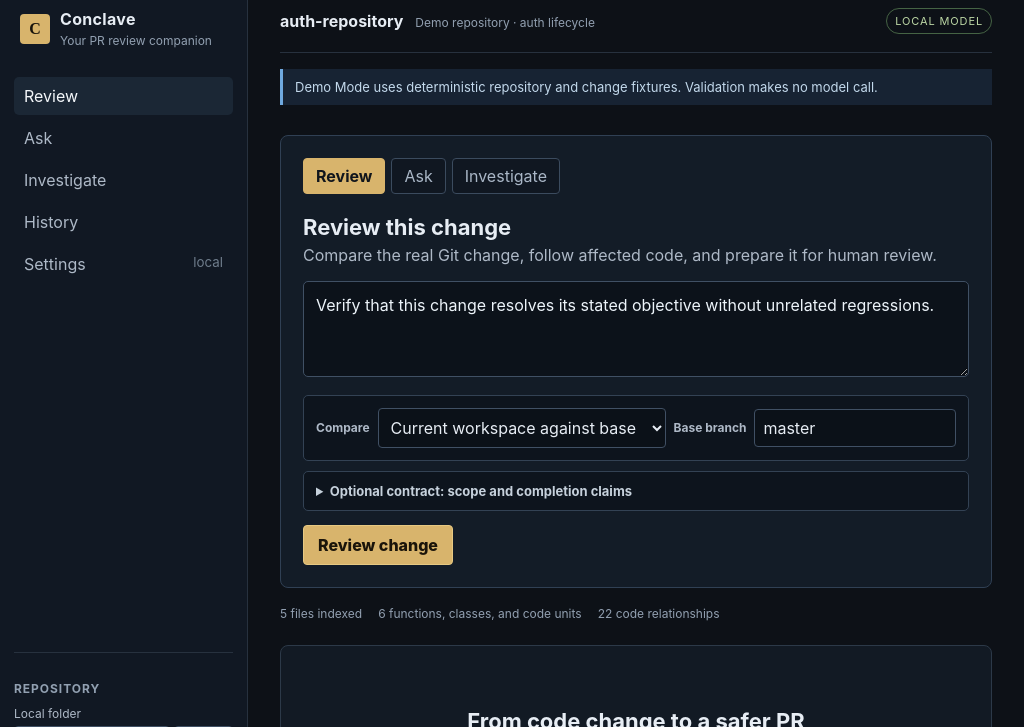
Test: Conclave product UI › makes Validate primary and shows a decision summary before raw data
Expected: the text "auth-repository" is shown, [280,10,403,30]
Expected: the heading "Review this change" is shown, [303,214,511,240]
Click the button "Review change" at (378, 545), box [303,525,453,565]
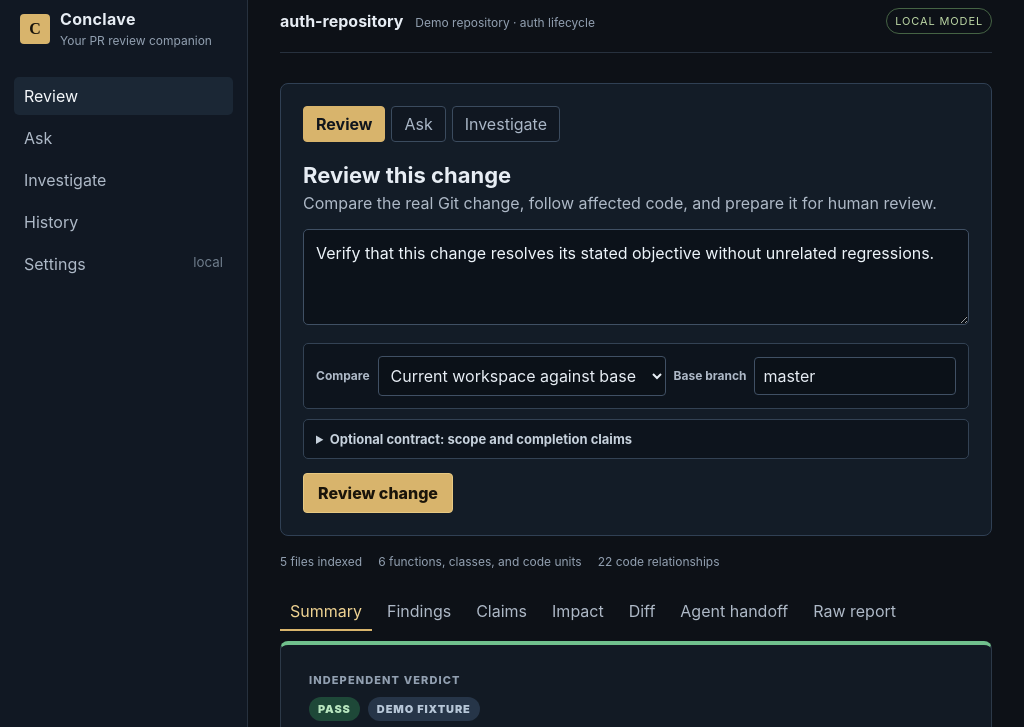
Click the tab "Raw report" at (855, 612), box [803,593,906,631]
(page scrolled)
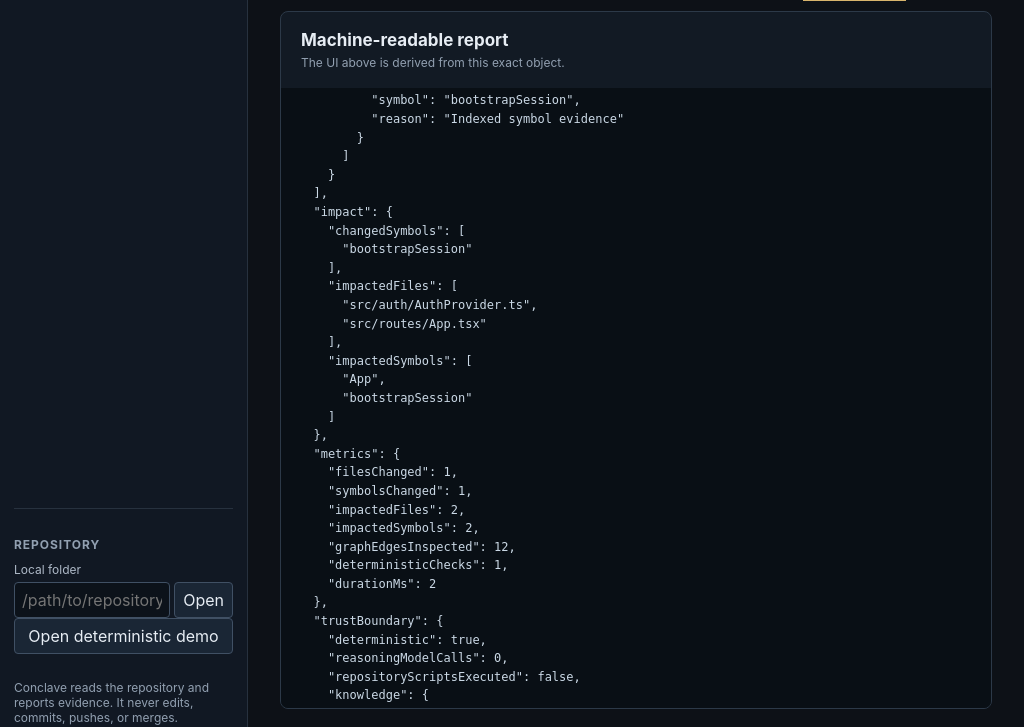
Result: the element named "Raw validation report" is shown
